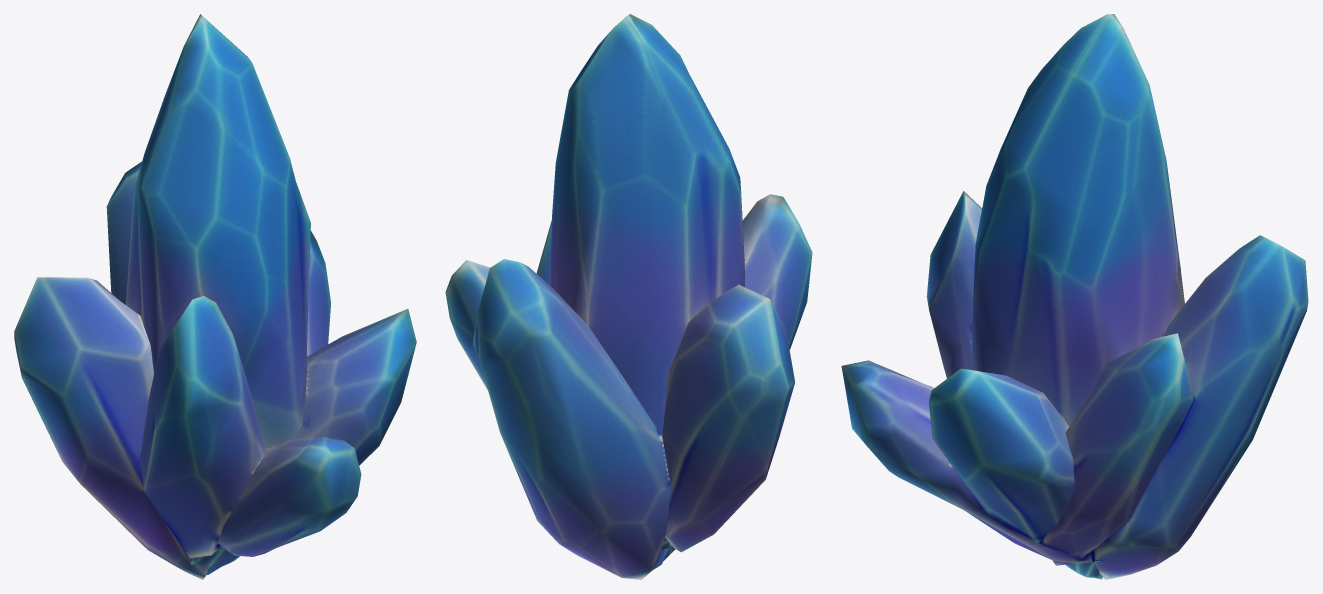
Rendered from CrystalLevelA.fbx.
The picture shows the model from 3 angles, left to right: view 1: azimuth 30°, elevation 25°; view 2: azimuth 150°, elevation 25°; view 3: azimuth 270°, elevation 25°; orthographic projection. The views are drawn at different scales.
Visible parts, largest first — view 1: Object_6.001; view 2: Object_6.001; view 3: Object_6.001.
Boxes of the visible parts, box(x1,y1,x2,y2) form: Object_6.001: box(14, 14, 416, 579); Object_6.001: box(445, 14, 812, 579); Object_6.001: box(841, 14, 1308, 579).
Size of the model in its own units: 96.95 by 162 by 120.
